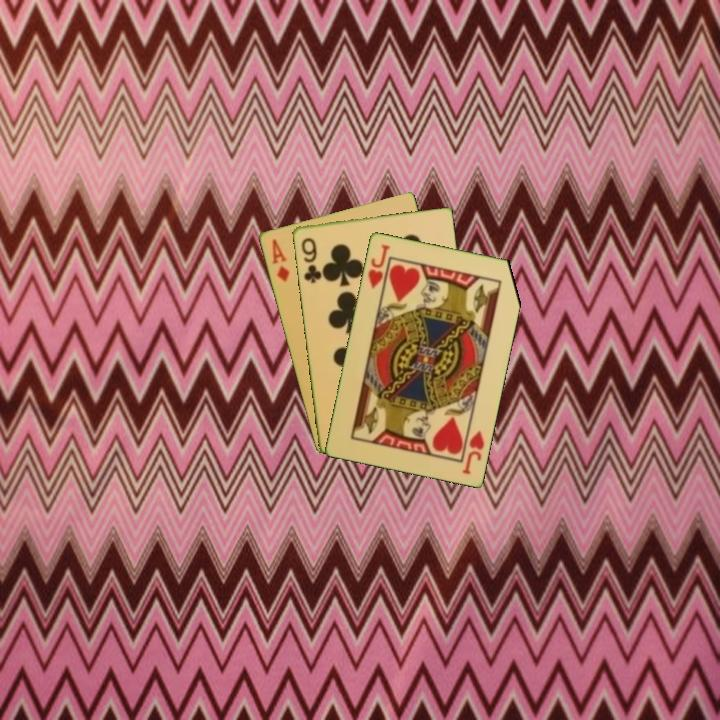9c: (297, 234, 323, 286)
Ad: (268, 235, 292, 284)
Jh: (364, 241, 393, 296), (458, 427, 487, 477)
